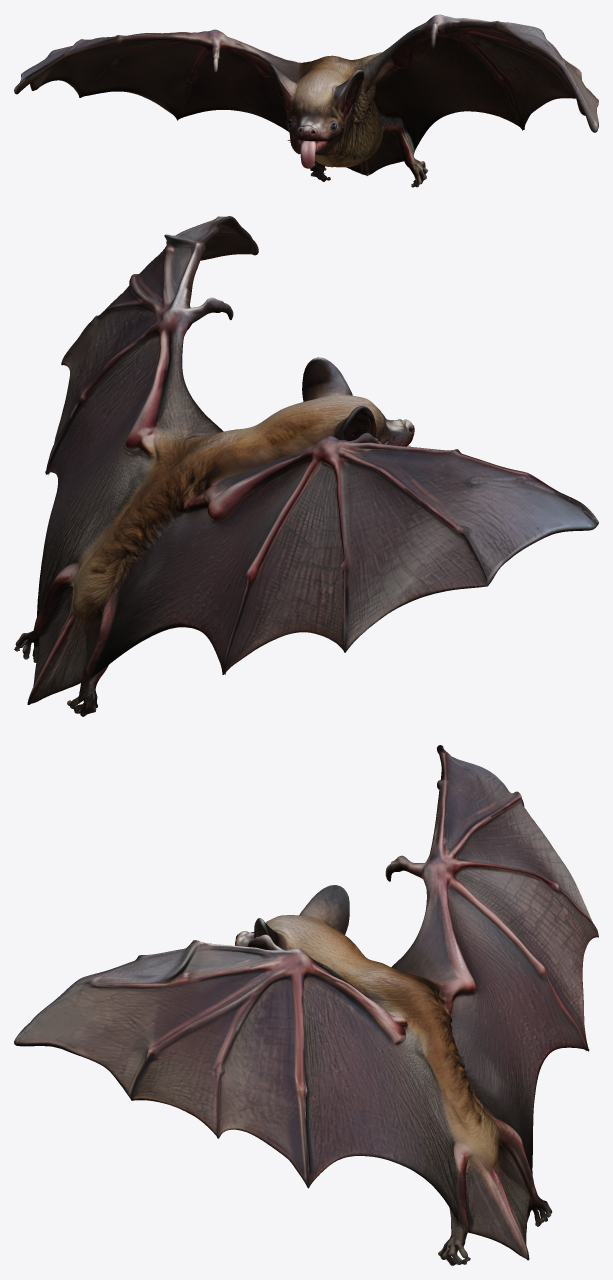
The model's file is murcielago.glb.
The picture shows the model from 3 angles, top to bottom: view 1: azimuth 30°, elevation 25°; view 2: azimuth 150°, elevation 25°; view 3: azimuth 270°, elevation 25°; orthographic projection. The views are drawn at different scales.
Visible parts, largest first — view 1: tripo_node_812333d5-cb62-4a6b-8b42-c6583ab52b3d; view 2: tripo_node_812333d5-cb62-4a6b-8b42-c6583ab52b3d; view 3: tripo_node_812333d5-cb62-4a6b-8b42-c6583ab52b3d.
Boxes of the visible parts, left/top/right/bottom form: tripo_node_812333d5-cb62-4a6b-8b42-c6583ab52b3d: left=14, top=14, right=598, bottom=187; tripo_node_812333d5-cb62-4a6b-8b42-c6583ab52b3d: left=14, top=216, right=598, bottom=716; tripo_node_812333d5-cb62-4a6b-8b42-c6583ab52b3d: left=14, top=745, right=598, bottom=1265.
Size of the model in its own units: 0.979 by 0.48 by 0.7931.
1 material, 1 textured.
